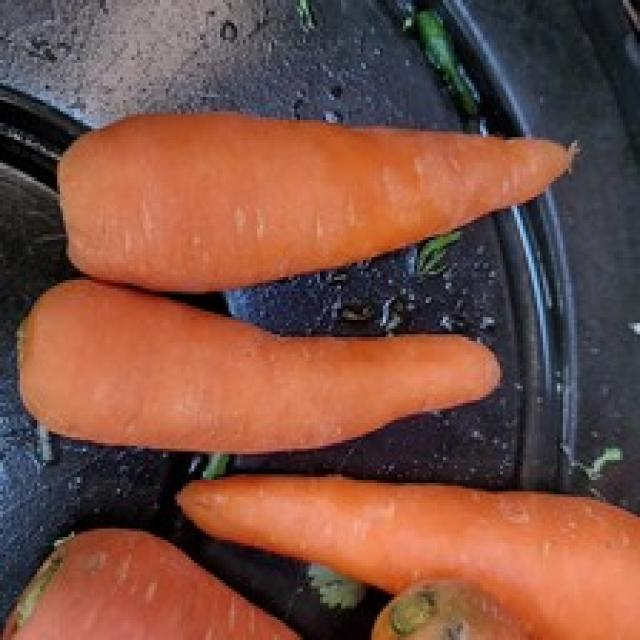carrot: (55, 104, 585, 298), (17, 279, 516, 455), (174, 474, 640, 640)
